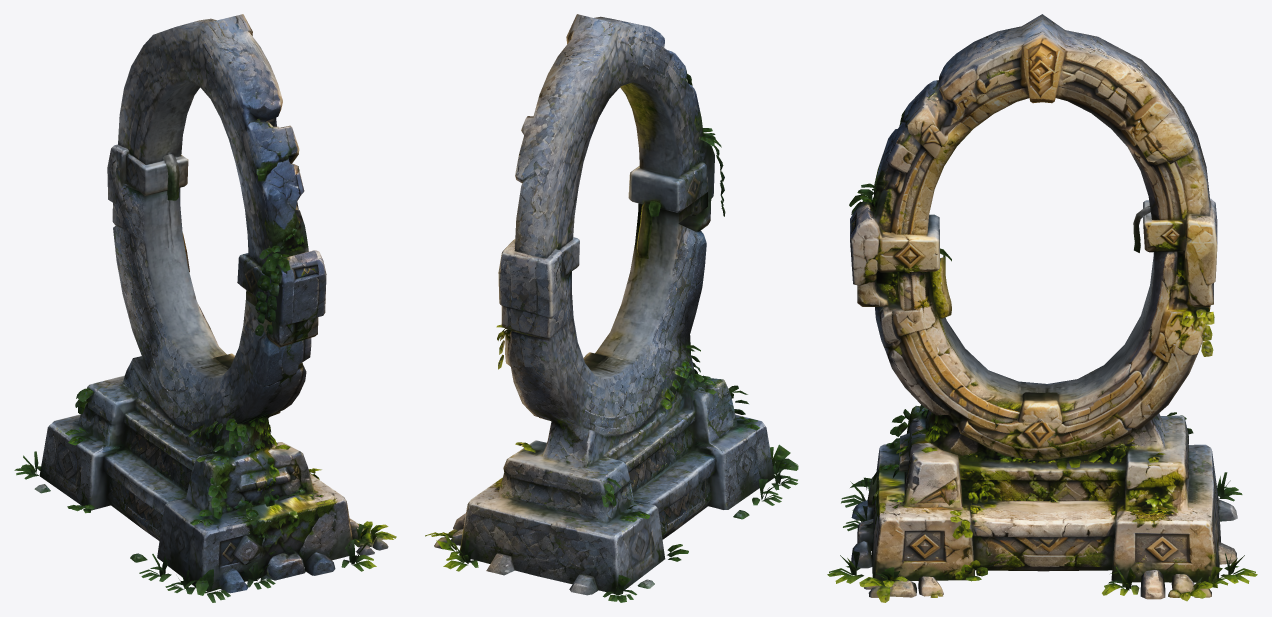
Rendered from stone+ring+portal+3d+model.fbx.
The picture shows the model from 3 angles, left to right: view 1: azimuth 30°, elevation 25°; view 2: azimuth 150°, elevation 25°; view 3: azimuth 270°, elevation 25°; orthographic projection. The views are drawn at different scales.
Visible parts, largest first — view 1: tripo_8152b1f5_56ed_4432_87ed_08b23e2c146b; view 2: tripo_8152b1f5_56ed_4432_87ed_08b23e2c146b; view 3: tripo_8152b1f5_56ed_4432_87ed_08b23e2c146b.
Boxes of the visible parts, bbox=[...] form: tripo_8152b1f5_56ed_4432_87ed_08b23e2c146b: bbox=[14, 14, 396, 602]; tripo_8152b1f5_56ed_4432_87ed_08b23e2c146b: bbox=[425, 14, 798, 602]; tripo_8152b1f5_56ed_4432_87ed_08b23e2c146b: bbox=[827, 14, 1257, 602].
Size of the model in its own units: 0.4888 by 0.9995 by 0.7368.
